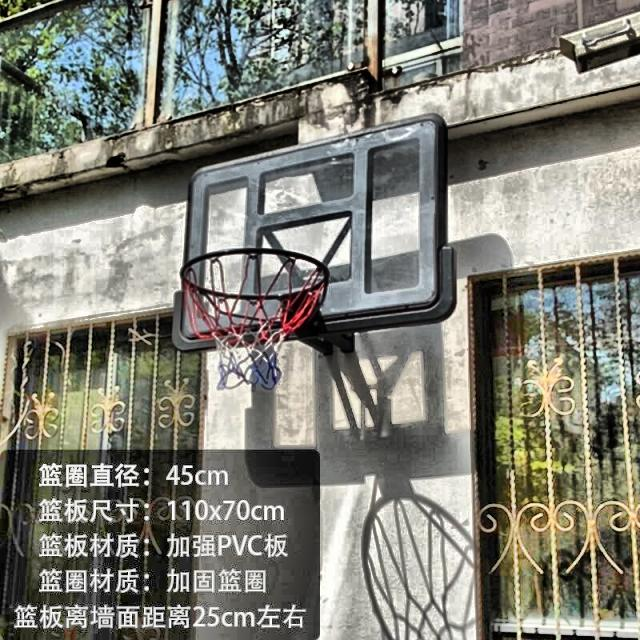rim: (184, 248, 329, 391)
